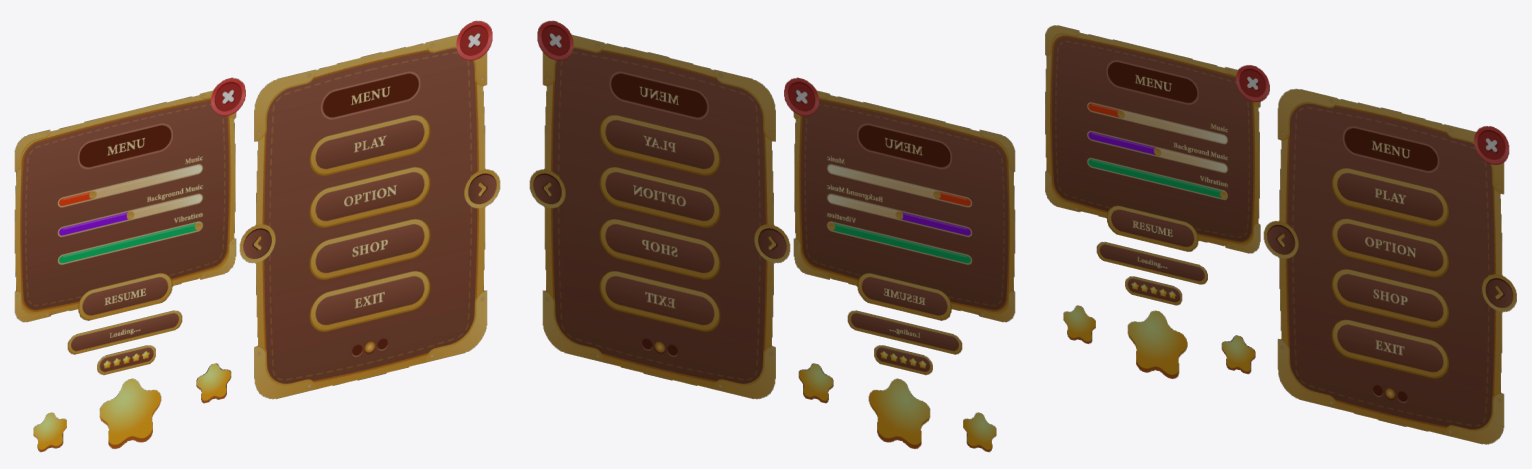
File: menu ui (3D).glb
3 renders of one model, left to right at view 1: azimuth 30°, elevation 25°; view 2: azimuth 150°, elevation 25°; view 3: azimuth 330°, elevation 25°, orthographic. The views are drawn at different scales.
Visible parts, largest first — view 1: mesh_id29, mesh_id31, mesh_id35, mesh_id39, mesh_id43, mesh_id47, mesh_id41; view 2: mesh_id29, mesh_id31, mesh_id35, mesh_id39, mesh_id43, mesh_id47, mesh_id41; view 3: mesh_id29, mesh_id31, mesh_id35, mesh_id39, mesh_id43, mesh_id47, mesh_id41.
Boxes of the visible parts, x1,y1,x2,y2 form: mesh_id29: [239, 20, 500, 399]; mesh_id31: [14, 77, 245, 322]; mesh_id35: [99, 378, 161, 448]; mesh_id39: [67, 310, 182, 354]; mesh_id43: [97, 345, 155, 375]; mesh_id47: [196, 363, 231, 403]; mesh_id41: [33, 412, 66, 452]; mesh_id29: [529, 20, 790, 399]; mesh_id31: [784, 77, 1015, 322]; mesh_id35: [868, 378, 930, 448]; mesh_id39: [847, 310, 962, 354]; mesh_id43: [874, 345, 932, 375]; mesh_id47: [798, 363, 833, 403]; mesh_id41: [963, 412, 996, 452]; mesh_id29: [1263, 88, 1516, 444]; mesh_id31: [1045, 25, 1269, 253]; mesh_id35: [1127, 310, 1187, 378]; mesh_id39: [1096, 241, 1207, 284]; mesh_id43: [1125, 276, 1182, 305]; mesh_id47: [1221, 335, 1255, 374]; mesh_id41: [1063, 305, 1095, 343].
Size of the model in its own units: 0.751 by 0.5076 by 0.
7 materials, 7 textured.
